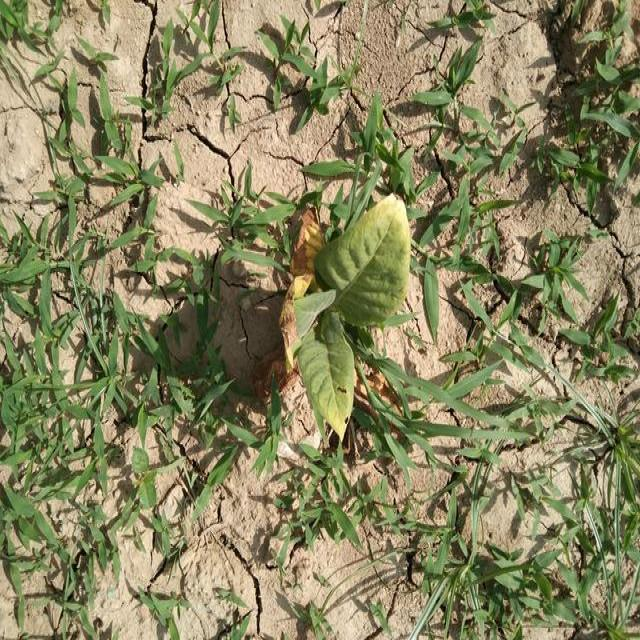crop: (292, 192, 415, 466)
